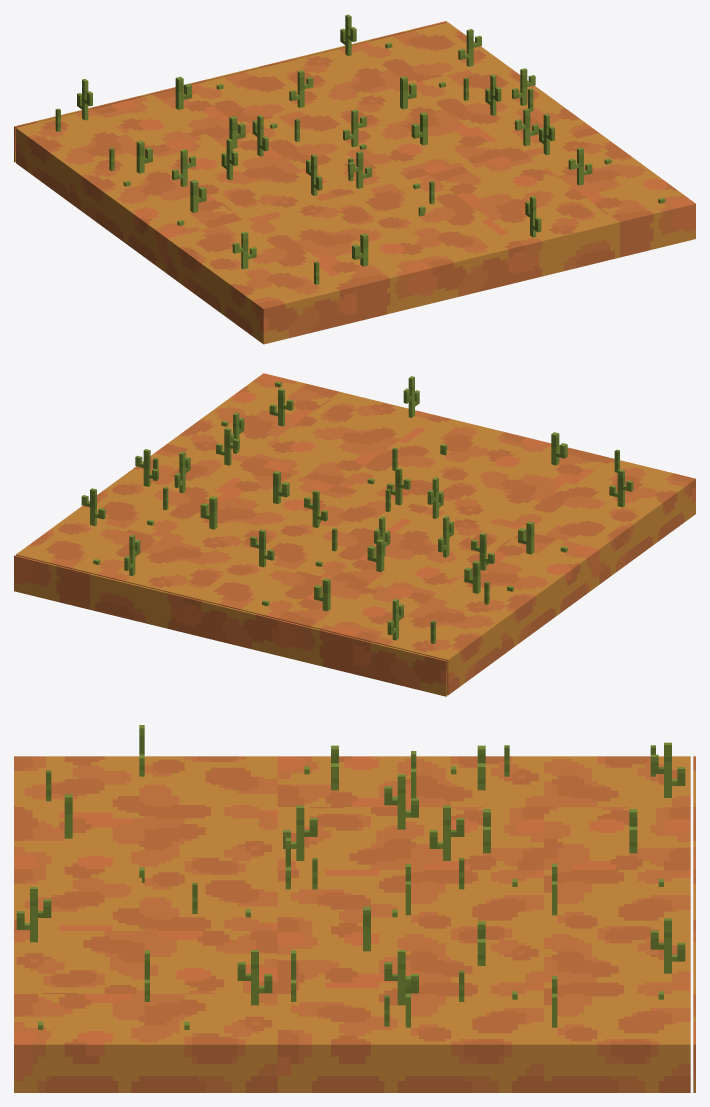
Rendered from Desert.obj.
3 views of the same model, one above another, from view 1: azimuth 30°, elevation 25°; view 2: azimuth 150°, elevation 25°; view 3: azimuth 270°, elevation 25° (orthographic). The views are drawn at different scales.
Size of the model in its own units: 25.6 by 4.2 by 25.6.
Materials: 1 (1 with a texture image).
